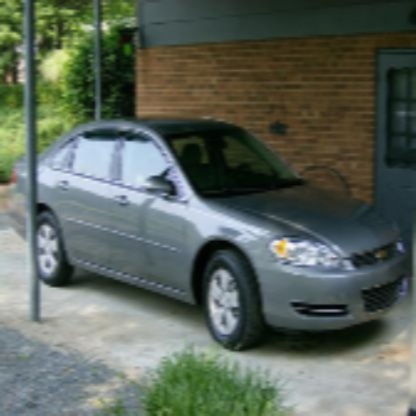Vehicle: (8, 116, 406, 351)
